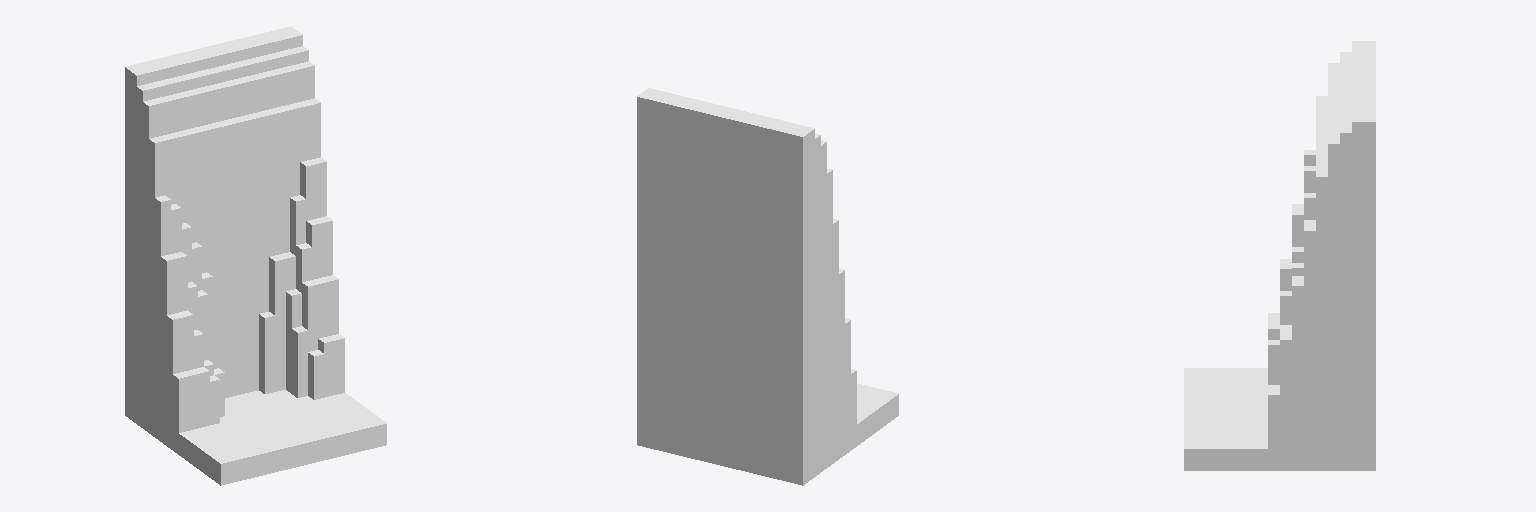
The model's file is Mountain_road_3.obj.
The picture shows the model from 3 angles: view 1: azimuth 30°, elevation 25°; view 2: azimuth 150°, elevation 25°; view 3: azimuth 270°, elevation 25°; orthographic projection.
Parts seen in each view (by area): view 1: object 1; view 2: object 1; view 3: object 1.
Part boxes in pixels (x1,y1,x2,y2): object 1: (125, 26, 386, 485); object 1: (637, 88, 898, 485); object 1: (1184, 41, 1375, 470).
Size of the model in its own units: 1.6 by 3.2 by 1.6.